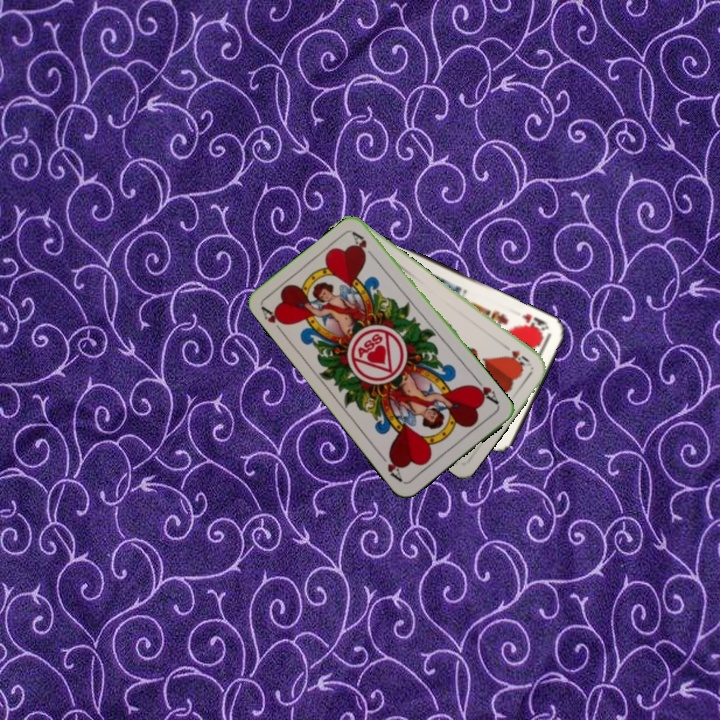HA: (257, 303, 290, 338), (468, 374, 501, 408)
HK: (518, 309, 551, 335)
HO: (499, 340, 532, 369)
